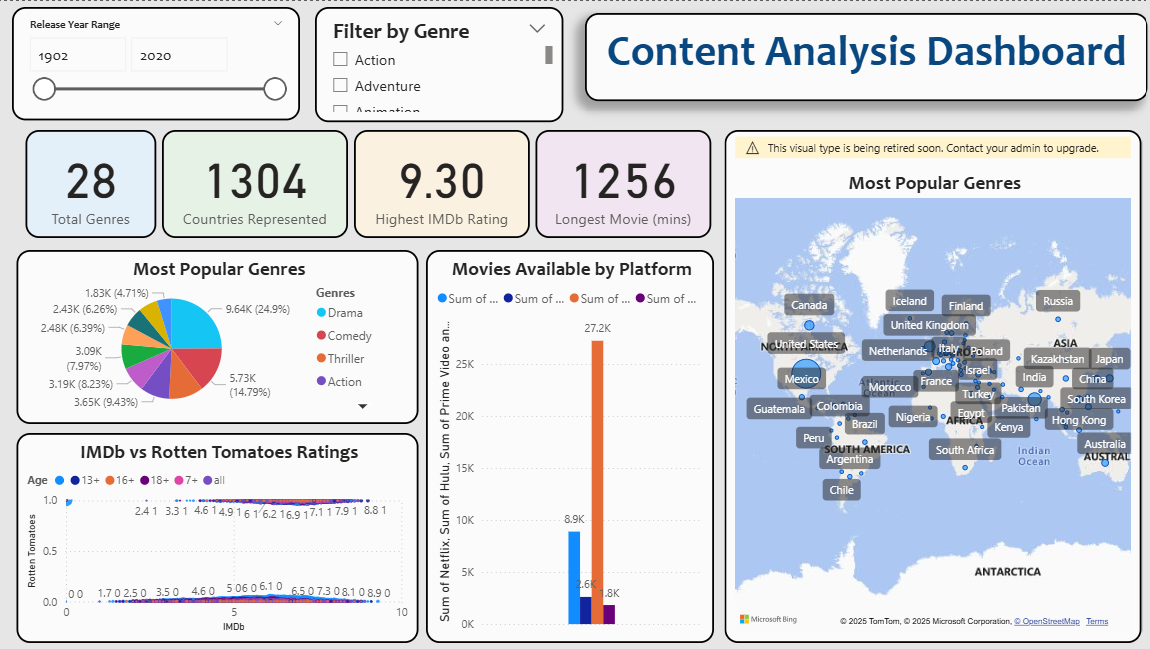

What the dashboard file says about the page in this screenshot:
{"tool":"powerbi","page":{"name":"Content Analysis","canvas":[1280,720],"ordinal":1},"visuals":[{"type":"textbox","box":[650,14,626,98],"z":0},{"type":"slicer","fields":{"Values":["MoviesOnStreamingPlatforms.Genres"]},"box":[350,6,276,128],"z":1000},{"type":"slicer","fields":{"Values":["MoviesOnStreamingPlatforms.Year"]},"box":[14,6,320,126],"z":2000},{"type":"card","fields":{"Values":["Count(MoviesOnStreamingPlatforms.Genres)"]},"box":[28.3,143.3,145,120],"z":3000},{"type":"card","fields":{"Values":["Count(MoviesOnStreamingPlatforms.Country)"]},"box":[180,143.3,206.7,120],"z":4000},{"type":"card","fields":{"Values":["Max(MoviesOnStreamingPlatforms.IMDb)"]},"box":[393.3,143.3,195,120],"z":5000},{"type":"card","fields":{"Values":["Max(MoviesOnStreamingPlatforms.Runtime)"]},"box":[595,143.3,195,120],"z":6000},{"type":"pieChart","title":"Most Popular Genres","fields":{"Category":["MoviesOnStreamingPlatforms.Genres"],"Y":["CountNonNull(MoviesOnStreamingPlatforms.Title)"]},"box":[18.3,276.7,446.7,193.3],"z":7000},{"type":"map","title":"Most Popular Genres","fields":{"Category":["MoviesOnStreamingPlatforms.Country"],"Size":["CountNonNull(MoviesOnStreamingPlatforms.Title)"]},"box":[805,143.3,463.3,570],"z":8000},{"type":"scatterChart","title":"IMDb vs Rotten Tomatoes Ratings","fields":{"X":["MoviesOnStreamingPlatforms.IMDb"],"Y":["MoviesOnStreamingPlatforms.Rotten Tomatoes"],"Series":["MoviesOnStreamingPlatforms.Age"],"Size":["Sum(MoviesOnStreamingPlatforms.Runtime)"]},"box":[18.3,480,446.7,233.3],"z":9000},{"type":"clusteredColumnChart","title":"Movies Available by Platform","fields":{"Y":["Sum(MoviesOnStreamingPlatforms.Netflix)","Sum(MoviesOnStreamingPlatforms.Hulu)","Sum(MoviesOnStreamingPlatforms.Prime Video)","Sum(MoviesOnStreamingPlatforms.Disney+)"]},"box":[473.3,276.7,320,436.7],"z":10000}]}

Visuals, with their boxes in screenshot pixels (x1, y1, x2, y2), scaled from the page's 1280x720 canvas onto the 1150x649 screenshot:
textbox: 584:13:1146:101
slicer - MoviesOnStreamingPlatforms.Genres: 314:5:562:121
slicer - MoviesOnStreamingPlatforms.Year: 13:5:300:119
card - Count(MoviesOnStreamingPlatforms.Genres): 25:129:156:237
card - Count(MoviesOnStreamingPlatforms.Country): 162:129:347:237
card - Max(MoviesOnStreamingPlatforms.IMDb): 353:129:529:237
card - Max(MoviesOnStreamingPlatforms.Runtime): 535:129:710:237
"Most Popular Genres" pieChart: 16:249:418:424
"Most Popular Genres" map: 723:129:1139:643
"IMDb vs Rotten Tomatoes Ratings" scatterChart: 16:433:418:643
"Movies Available by Platform" clusteredColumnChart: 425:249:713:643
